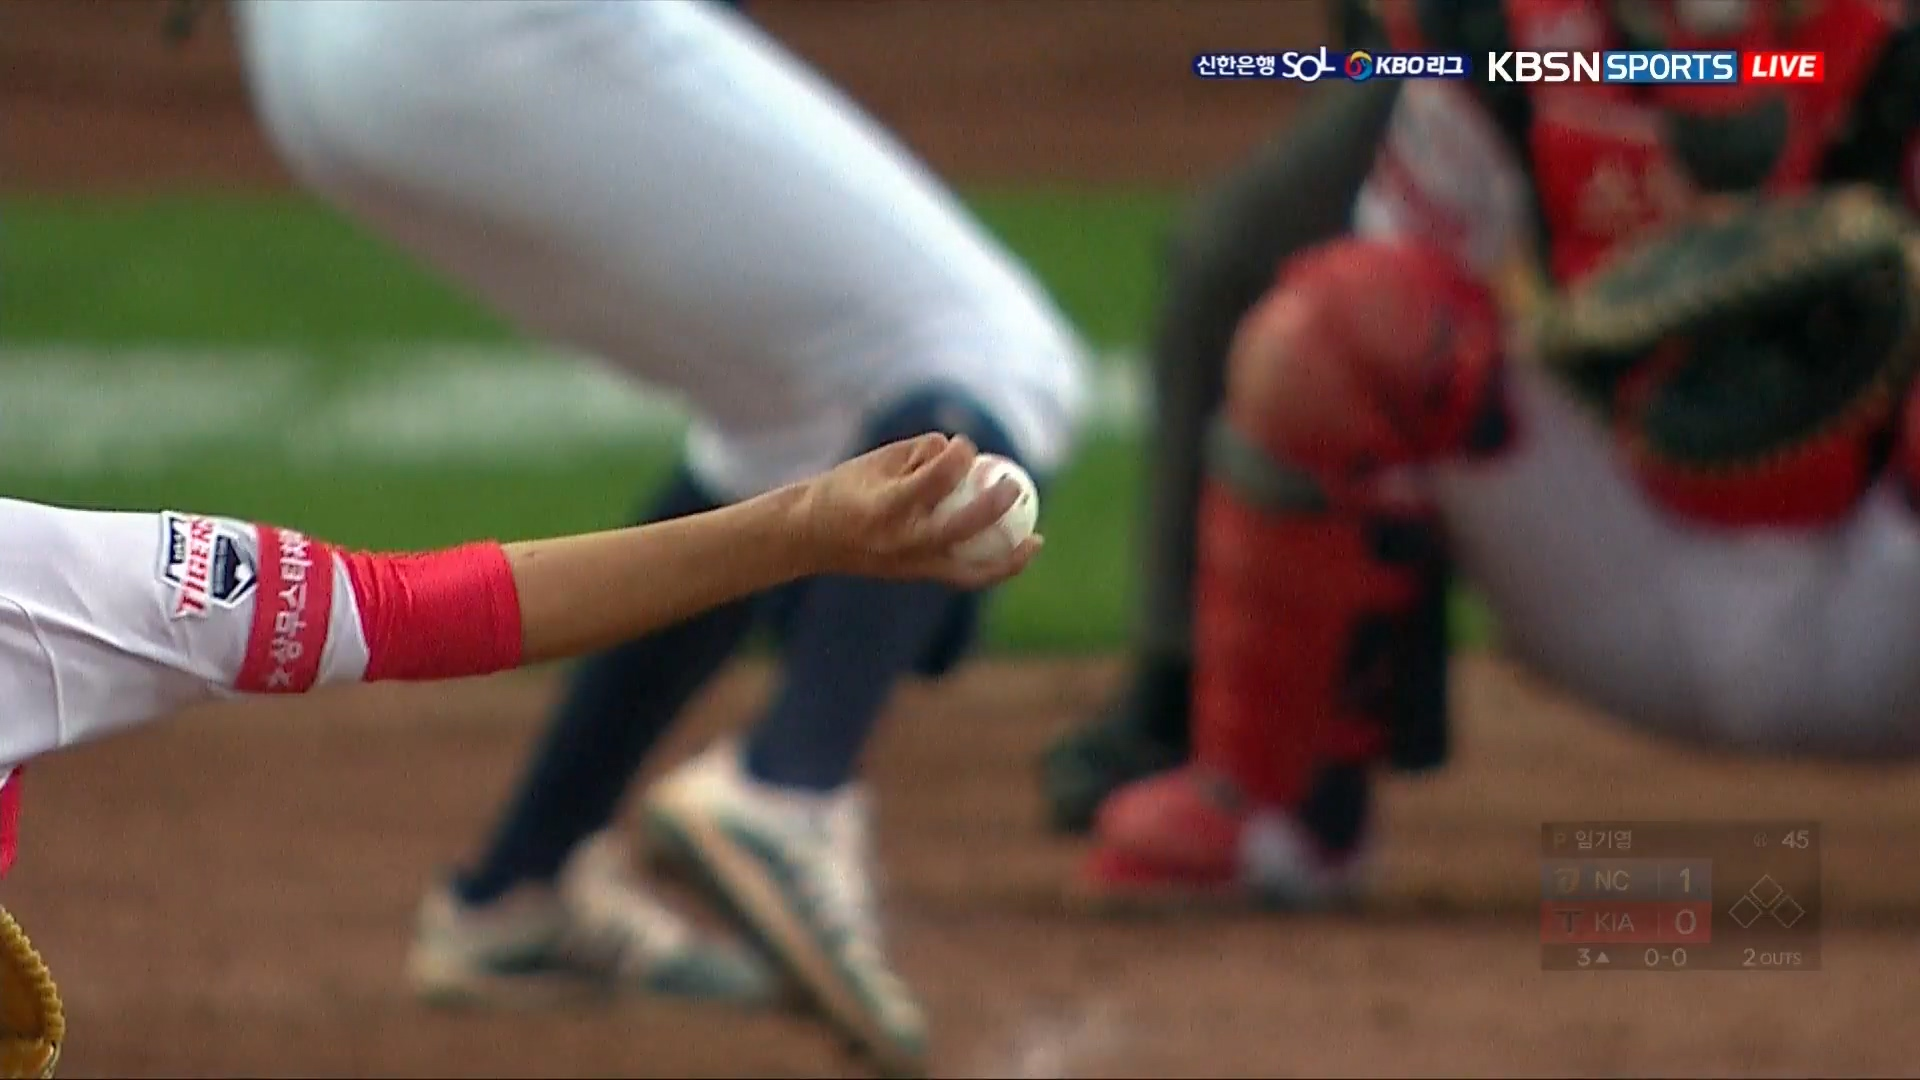zoomin_hand: (355, 425, 1048, 708)
